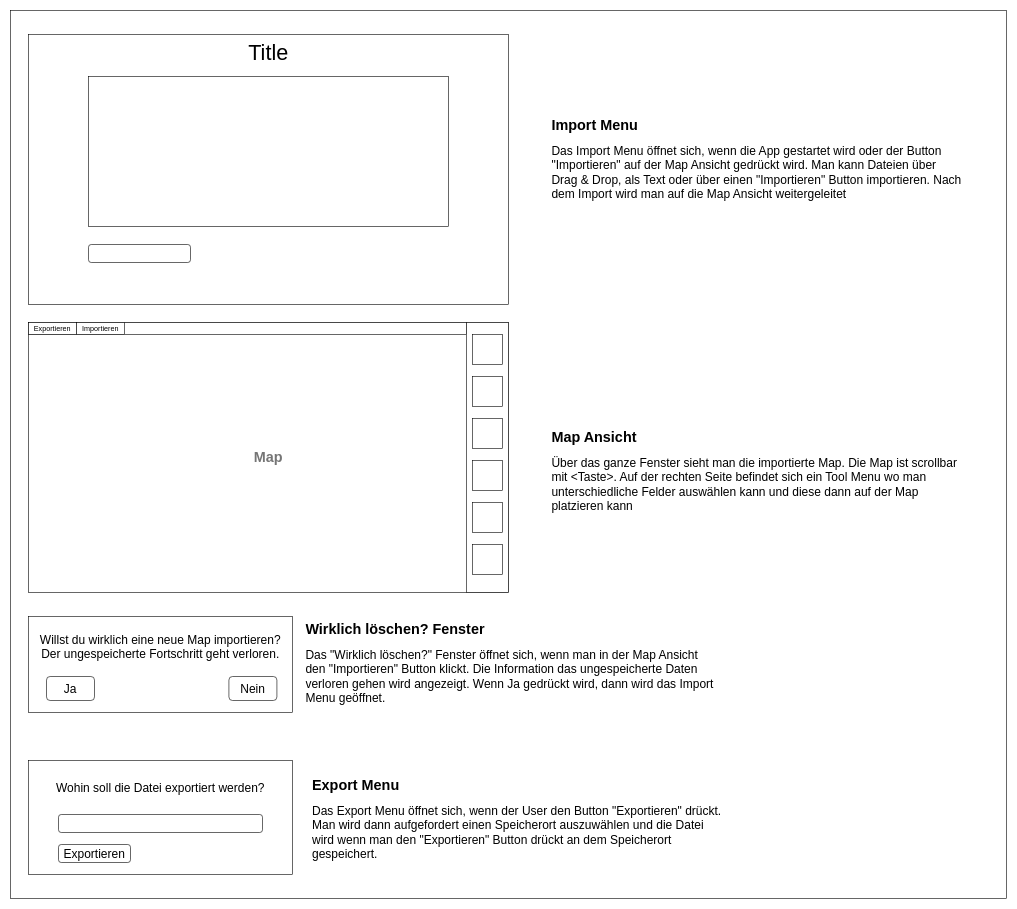
Image size: 1017x909. Some labels were removed from this diagram. Here are the shapes that lost their labels. From the top down, the box of each, then its label:
(88, 76, 448, 226): Text Area
(88, 244, 190, 262): Import Map
(58, 814, 262, 832): /path/to/export/location/file.txt
